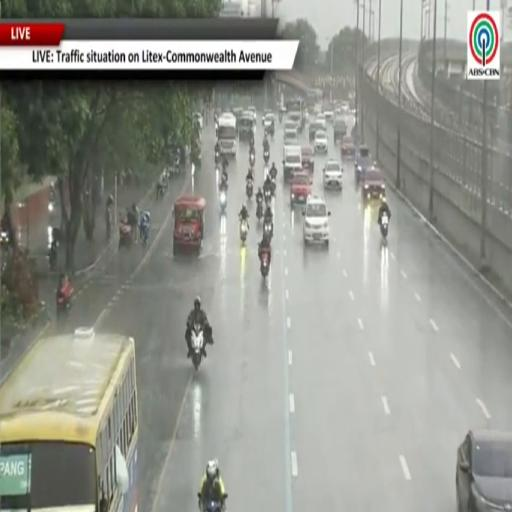bus: (0, 328, 138, 511), (218, 114, 238, 156), (286, 99, 305, 132), (307, 89, 323, 109)
car: (456, 430, 511, 511), (303, 197, 330, 246), (362, 167, 385, 200), (291, 171, 311, 205), (355, 146, 373, 182), (323, 159, 342, 189), (238, 112, 255, 140), (334, 117, 347, 142), (314, 131, 328, 153), (302, 147, 314, 172), (341, 136, 355, 157), (309, 122, 323, 141), (263, 112, 275, 132), (284, 130, 298, 146), (323, 105, 334, 123), (193, 112, 203, 131), (262, 109, 273, 125), (247, 106, 257, 122), (284, 119, 297, 131), (316, 114, 326, 129), (341, 102, 350, 114), (335, 104, 342, 116), (304, 110, 309, 123)
motorcycle: (191, 324, 205, 370), (56, 286, 73, 319), (197, 493, 224, 511), (119, 223, 133, 249), (48, 240, 58, 271), (260, 248, 269, 278), (239, 219, 248, 244), (263, 221, 273, 242), (0, 230, 10, 250), (381, 214, 389, 239), (156, 181, 167, 199), (219, 189, 227, 213), (141, 224, 149, 247), (256, 198, 263, 220), (265, 123, 275, 137), (264, 188, 272, 205), (246, 180, 253, 199), (263, 150, 270, 166), (271, 176, 276, 196), (249, 153, 255, 167), (264, 165, 269, 180), (215, 152, 220, 165)
